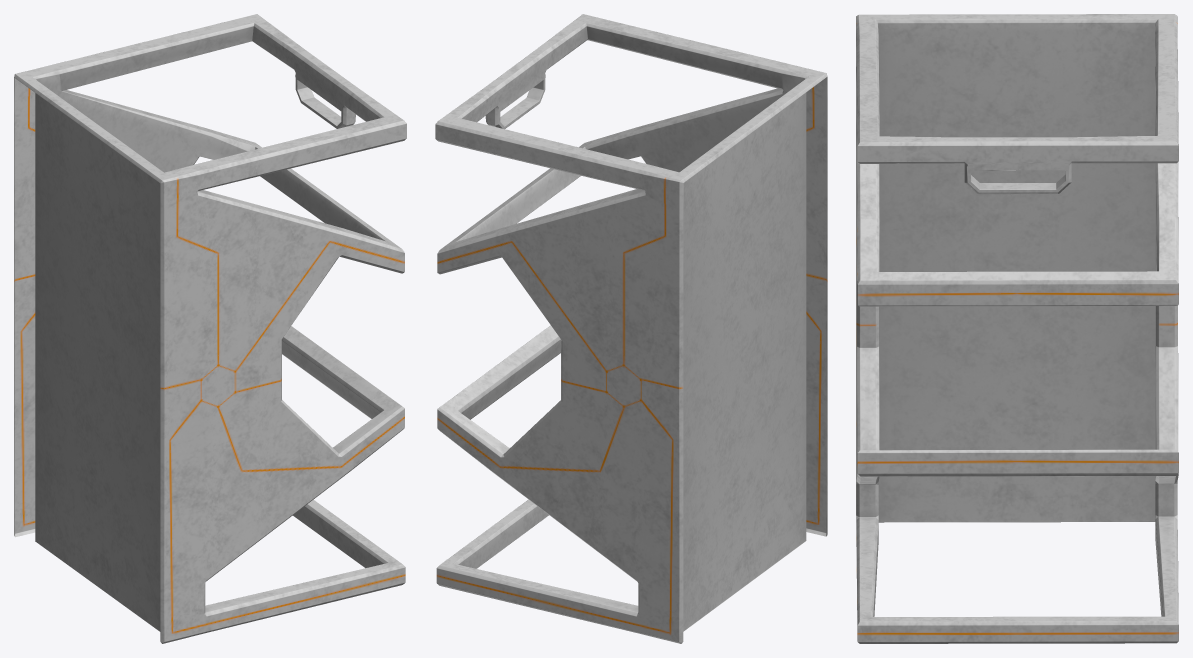
The model's file is storage_high.obj.
3 views of the same model, side by side, from view 1: azimuth 30°, elevation 25°; view 2: azimuth 150°, elevation 25°; view 3: azimuth 270°, elevation 25° (orthographic). The views are drawn at different scales.
Visible parts, largest first — view 1: Plane092; view 2: Plane092; view 3: Plane092.
Boxes of the visible parts, <box> form: Plane092: <box>14,14,406,643</box>; Plane092: <box>435,14,827,643</box>; Plane092: <box>856,14,1178,643</box>.
Size of the model in its own units: 0.9637 by 1.73 by 1.01.
1 material, 1 textured.
